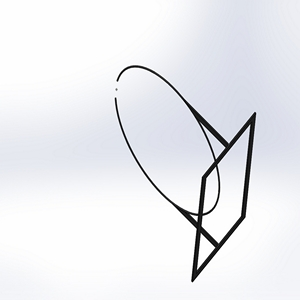circle: (112, 63, 258, 283)
